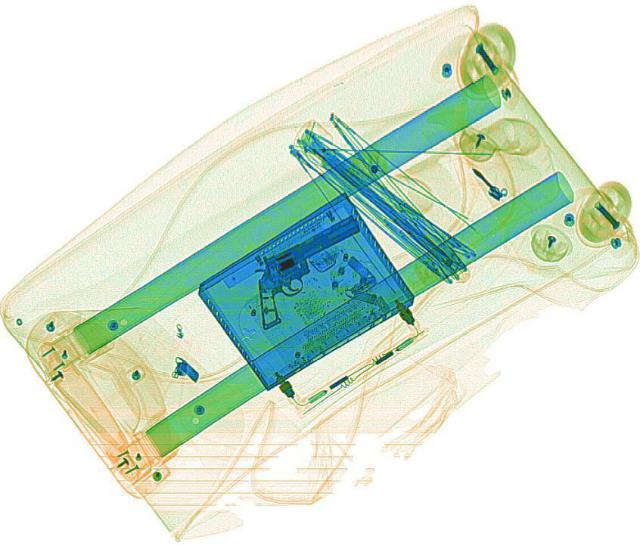Gun: (222, 211, 394, 327)
